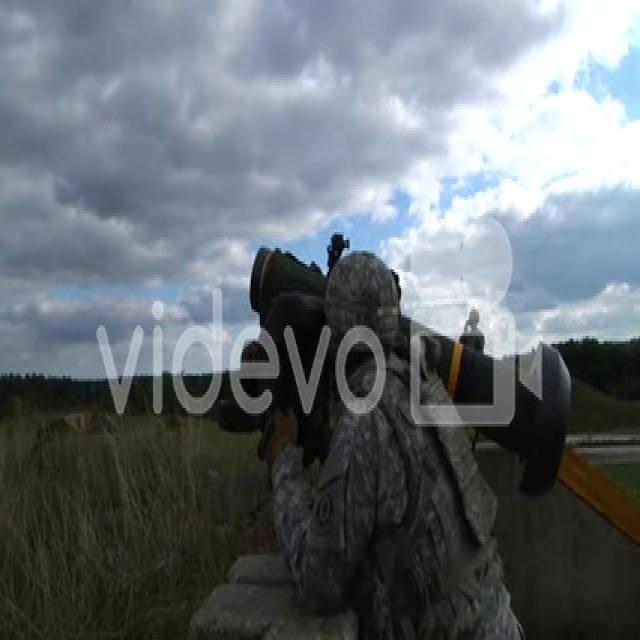bazooka: (252, 244, 581, 506)
